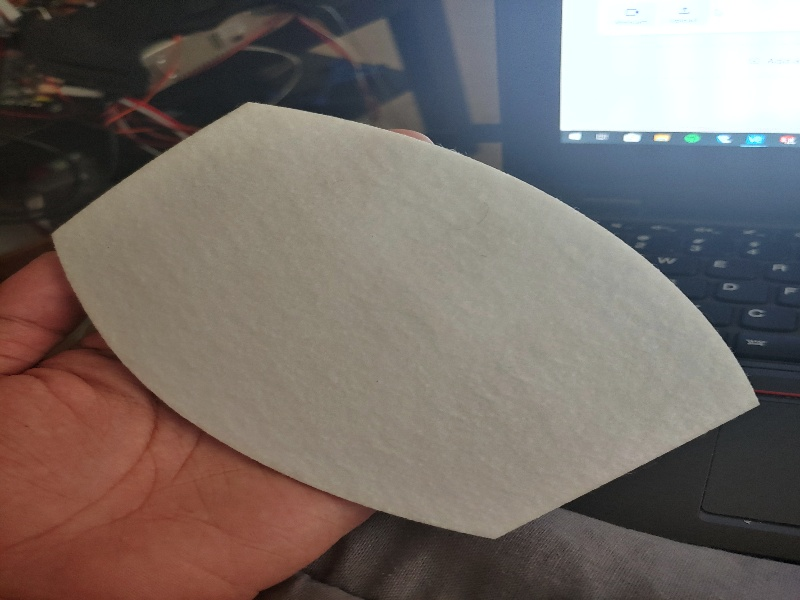Filter: (52, 99, 760, 540)
